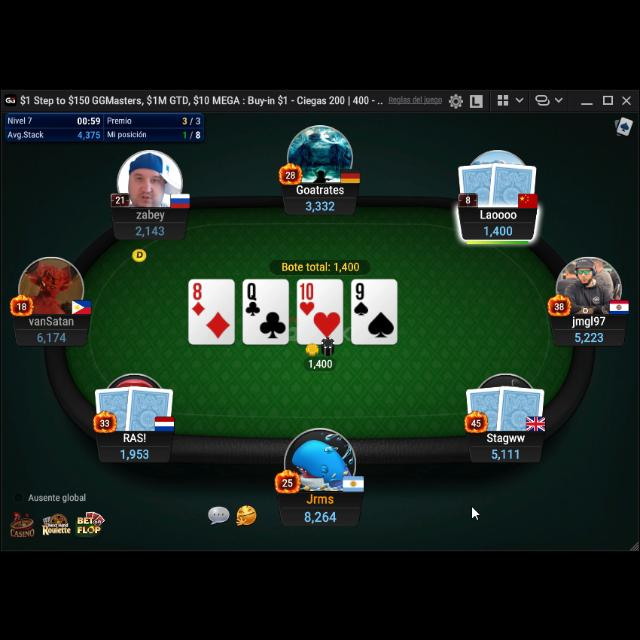8d: (190, 280, 206, 314)
9s: (352, 279, 370, 315)
Qc: (244, 280, 262, 316)
Th: (298, 279, 316, 315)
bet_text: (310, 354, 334, 368)
card_back: (489, 156, 539, 207), (496, 381, 546, 431), (124, 380, 174, 430), (456, 158, 500, 206), (93, 383, 135, 431), (466, 382, 506, 430)
dealer: (130, 246, 148, 264)
pot_text: (280, 260, 360, 270)
stack_text: (302, 508, 338, 524), (482, 220, 514, 236), (573, 328, 605, 342), (134, 223, 166, 237), (491, 446, 522, 459), (120, 446, 150, 459), (35, 330, 67, 342), (304, 198, 336, 210)
